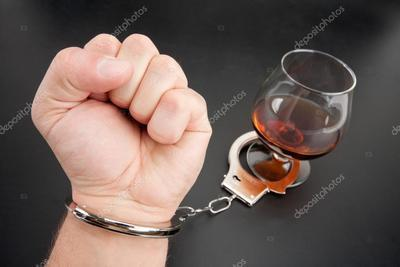closedhandfront: (17, 18, 222, 211)
